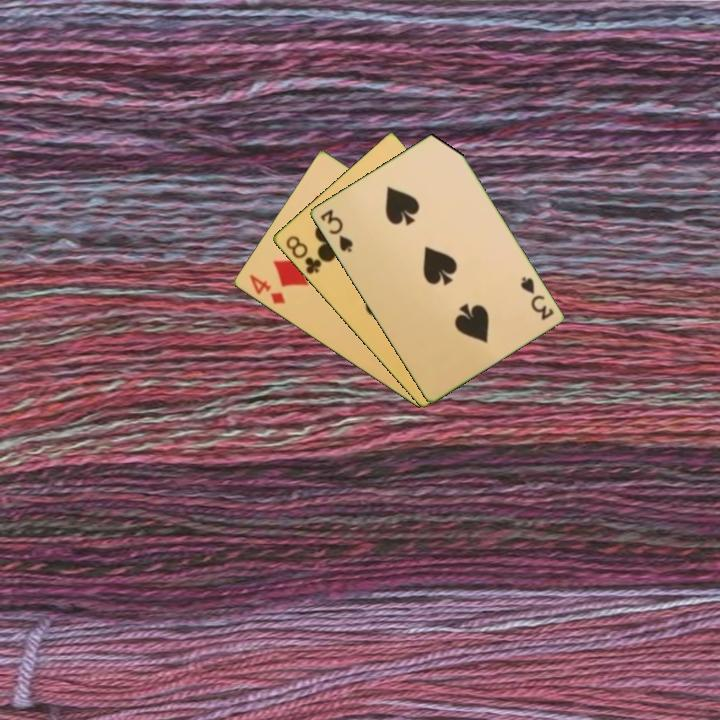3s: (316, 205, 356, 255), (516, 273, 556, 323)
4d: (245, 271, 288, 307)
8c: (282, 232, 324, 277)
